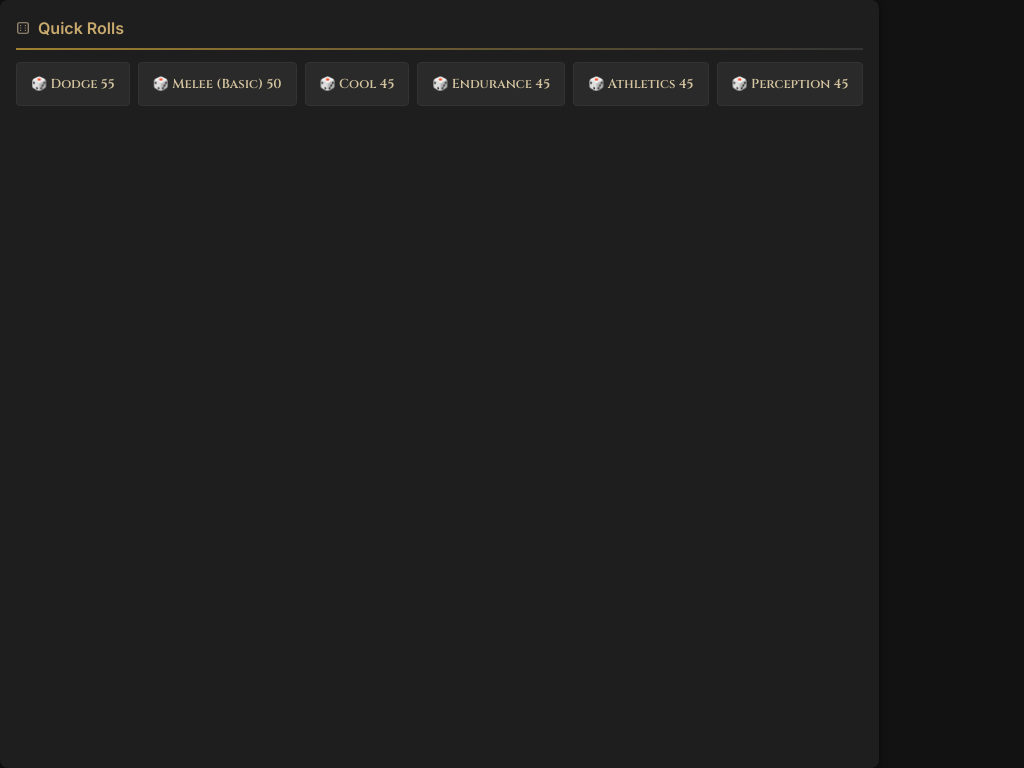
Test: QuickRollBar — roll result › displays RollResultDisplay after a roll is made
Click the button with aria-label "Roll Dodge" at (73, 84), box [16, 62, 130, 106]
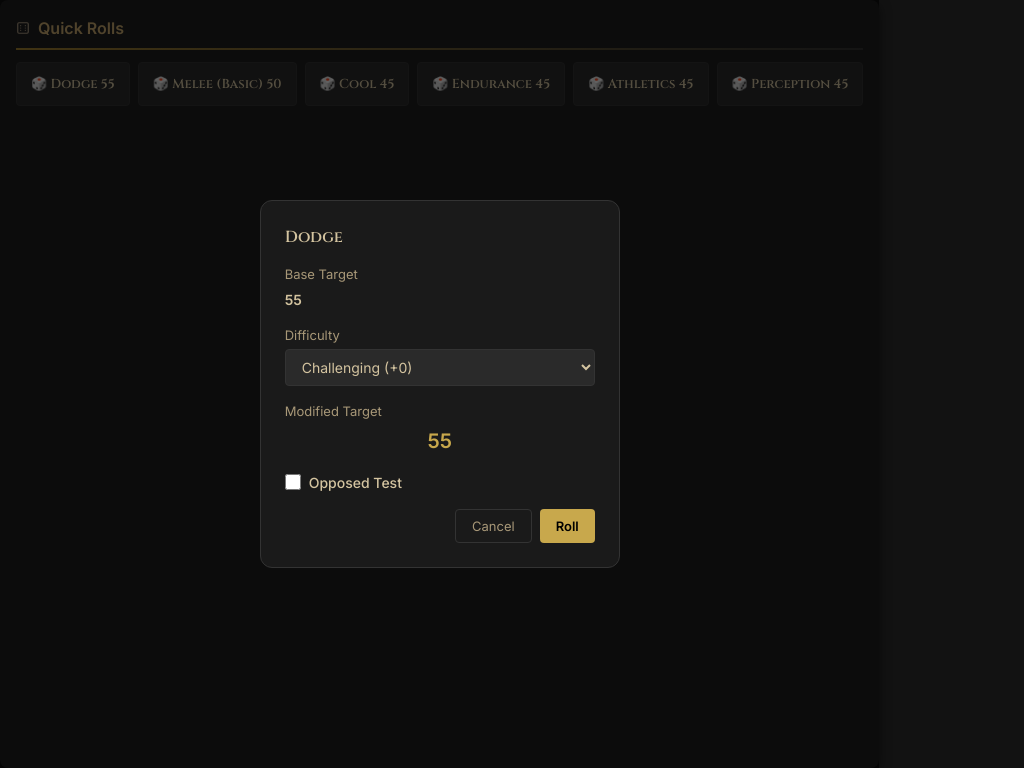
Click the button "Roll" at (567, 526), box [540, 509, 595, 543]
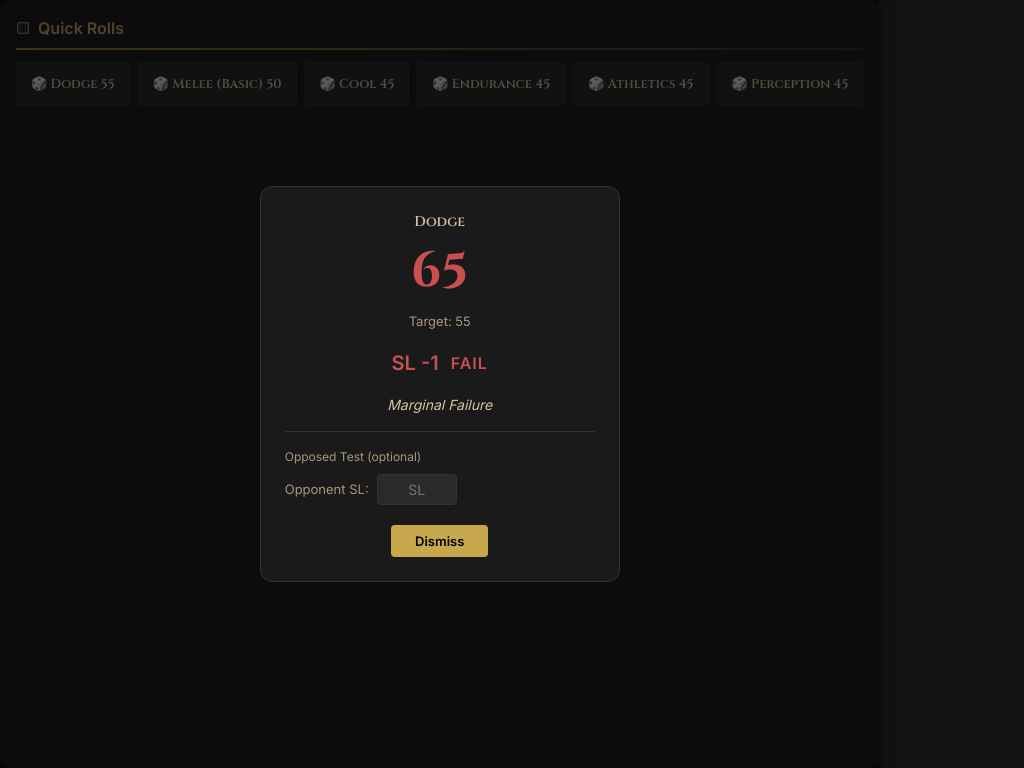
Now the dialog named "Roll Result" is shown
